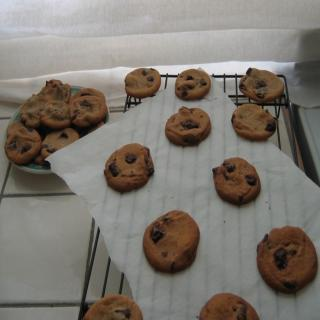Cookie: (4, 75, 110, 165), (258, 224, 318, 294), (142, 210, 201, 276), (212, 156, 262, 207), (104, 143, 154, 193), (162, 105, 212, 146), (231, 102, 277, 141), (200, 290, 259, 320), (84, 292, 146, 320), (238, 66, 285, 102), (122, 66, 164, 97), (174, 68, 211, 101)
